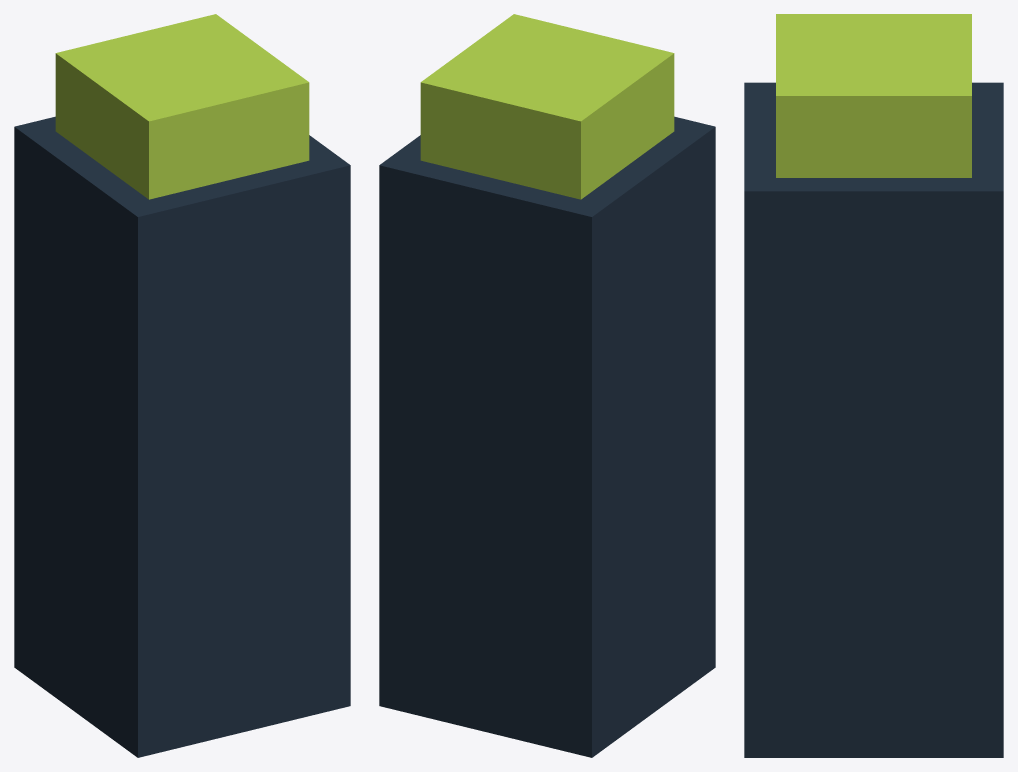
Rendered from Fence_c.fbx.
The picture shows the model from 3 angles, left to right: view 1: azimuth 30°, elevation 25°; view 2: azimuth 150°, elevation 25°; view 3: azimuth 270°, elevation 25°; orthographic projection. The views are drawn at different scales.
Visible parts, largest first — view 1: Fence_c; view 2: Fence_c; view 3: Fence_c.
Part boxes in pixels (<box>): Fence_c: <box>14,14,350,757</box>; Fence_c: <box>379,14,715,757</box>; Fence_c: <box>744,14,1003,757</box>.
Size of the model in its own units: 4.47 by 12.44 by 4.5.
